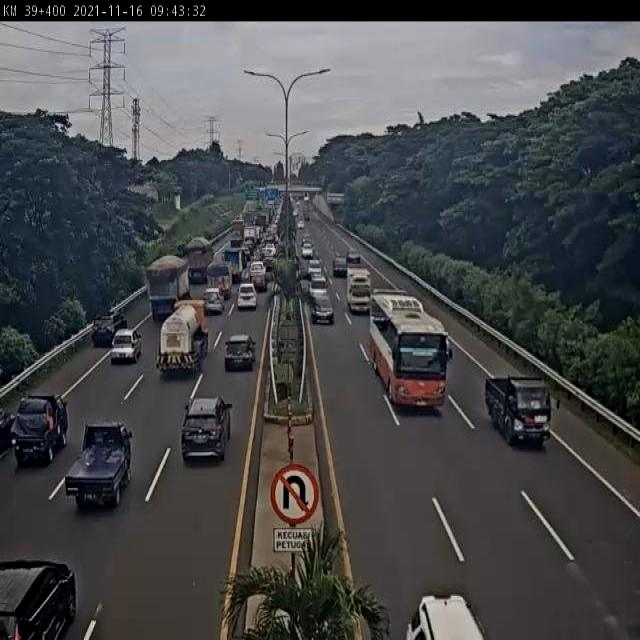Bus: (368, 288, 454, 412)
Car: (0, 556, 77, 640), (178, 395, 234, 464), (406, 593, 486, 640), (90, 311, 128, 350), (223, 333, 255, 370), (112, 330, 141, 365), (0, 401, 16, 456), (310, 296, 336, 326), (235, 284, 257, 310), (308, 275, 328, 295), (249, 258, 266, 279), (332, 257, 348, 275), (308, 259, 323, 277), (231, 229, 243, 247), (300, 243, 314, 258), (345, 247, 360, 260), (297, 221, 304, 229)
Truck: (66, 420, 132, 513), (484, 370, 560, 447), (10, 392, 70, 472), (155, 298, 209, 378), (147, 256, 192, 317), (184, 236, 215, 282), (346, 262, 372, 315), (205, 259, 233, 300), (222, 249, 243, 280), (244, 226, 257, 242)
